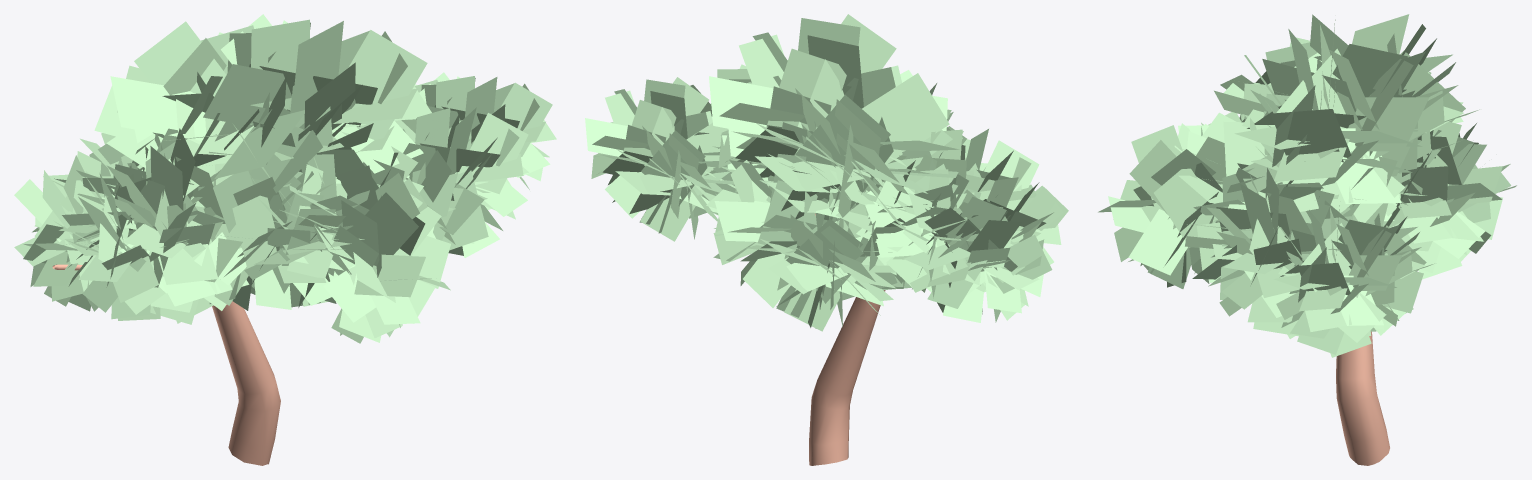
Rendered from tree_10.fbx.
The picture shows the model from 3 angles, left to right: view 1: azimuth 30°, elevation 25°; view 2: azimuth 150°, elevation 25°; view 3: azimuth 270°, elevation 25°; orthographic projection. The views are drawn at different scales.
Visible parts, largest first — view 1: Tree_10; view 2: Tree_10; view 3: Tree_10.
Boxes of the visible parts, <box> form: Tree_10: <box>14,14,556,465</box>; Tree_10: <box>585,14,1068,465</box>; Tree_10: <box>1098,14,1516,465</box>.
Size of the model in its own units: 944 by 794 by 693.
